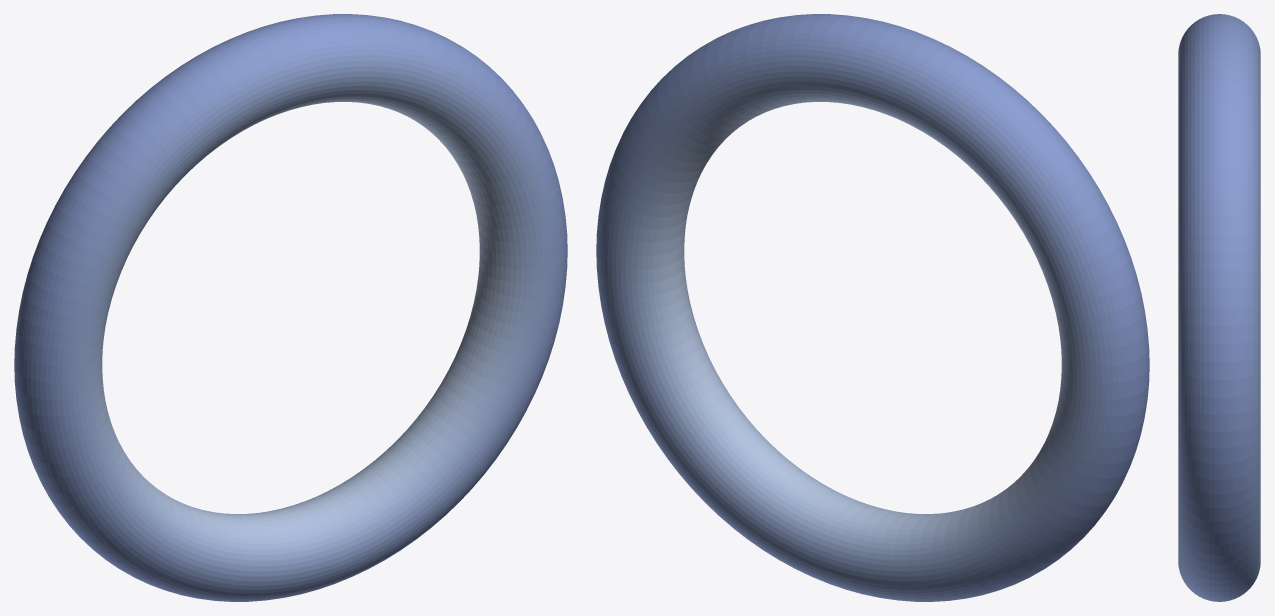
The picture shows the model from 3 angles, left to right: view 1: azimuth 30°, elevation 25°; view 2: azimuth 150°, elevation 25°; view 3: azimuth 270°, elevation 25°; orthographic projection. The views are drawn at different scales.
Visible parts, largest first — view 1: world; view 2: world; view 3: world.
Part boxes in pixels (left/top/right/bottom): world: left=14, top=14, right=567, bottom=601; world: left=596, top=14, right=1149, bottom=601; world: left=1178, top=14, right=1260, bottom=601.
Size of the model in its own units: 25.6 by 25.6 by 3.59.
